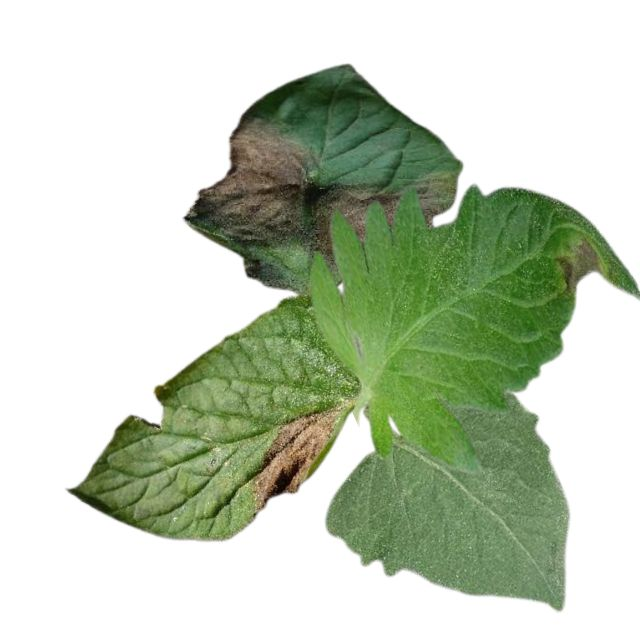Late_blight: (190, 114, 312, 252), (312, 172, 457, 257), (245, 399, 347, 517), (555, 234, 610, 304), (245, 254, 307, 293)
